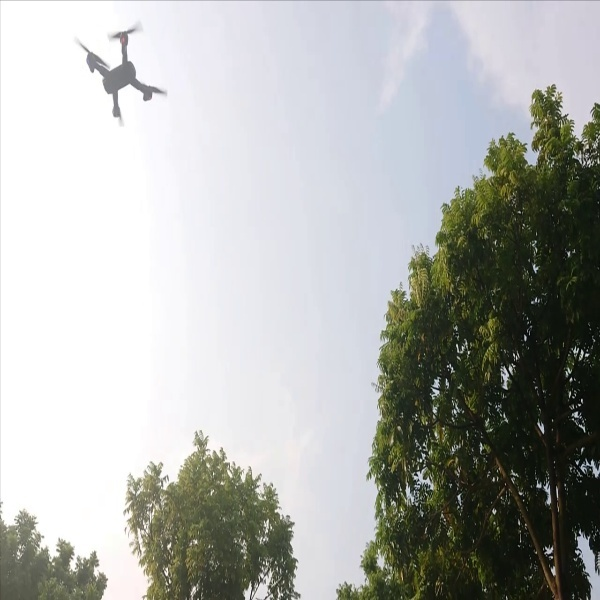drone: (67, 19, 178, 130)
